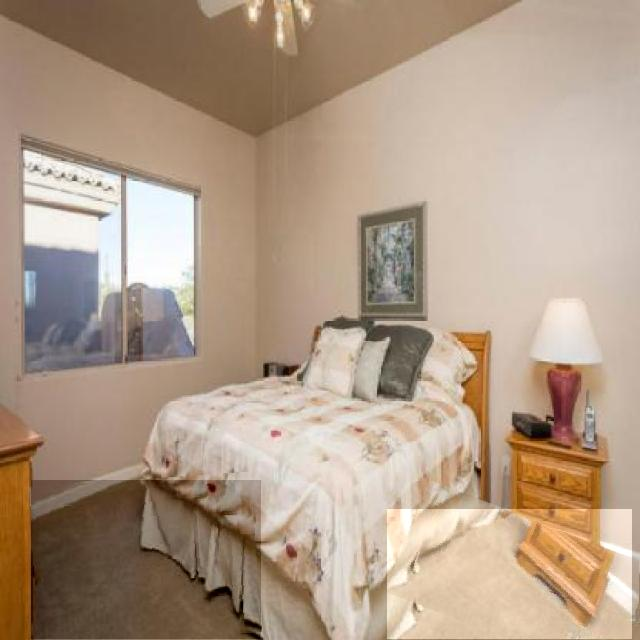floor: (32, 480, 261, 640), (387, 509, 632, 640)
